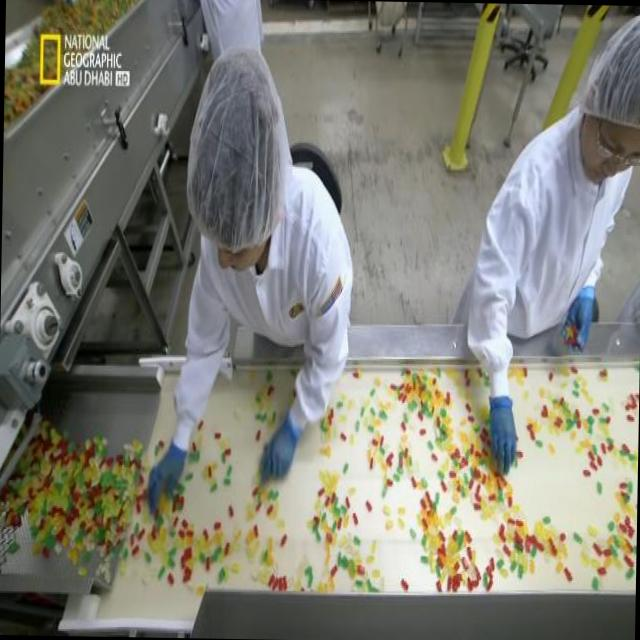hairnet: (189, 52, 288, 238), (579, 17, 640, 128)
